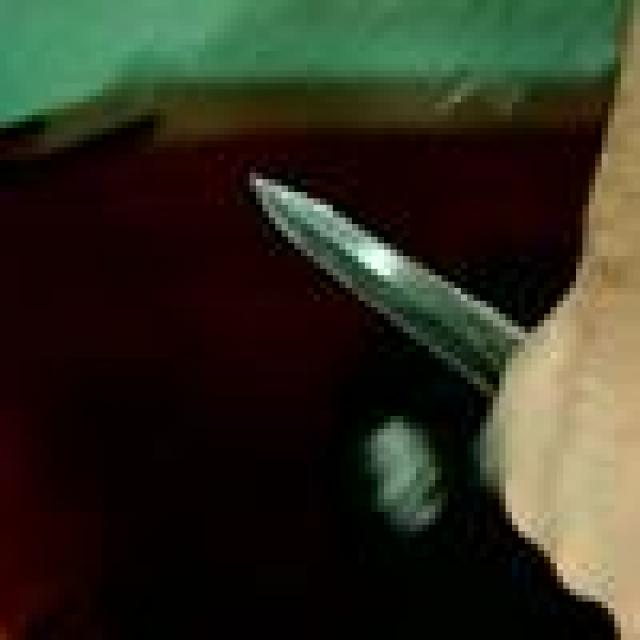weapon: (211, 134, 576, 487)
